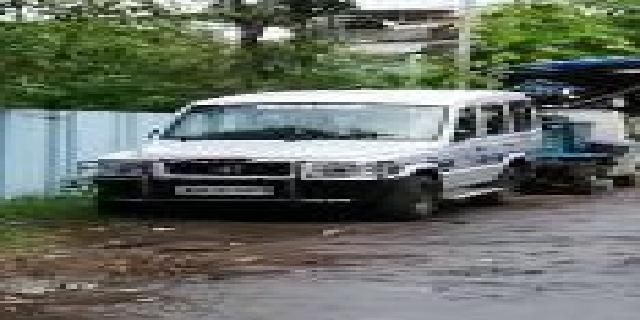Car: (96, 82, 536, 249)
